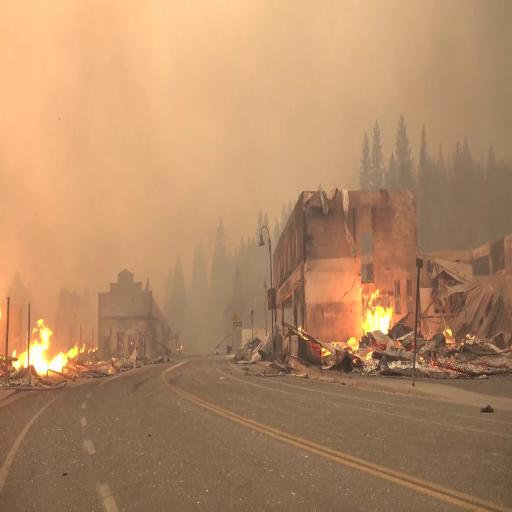fire: (18, 305, 71, 375), (362, 290, 391, 338)
